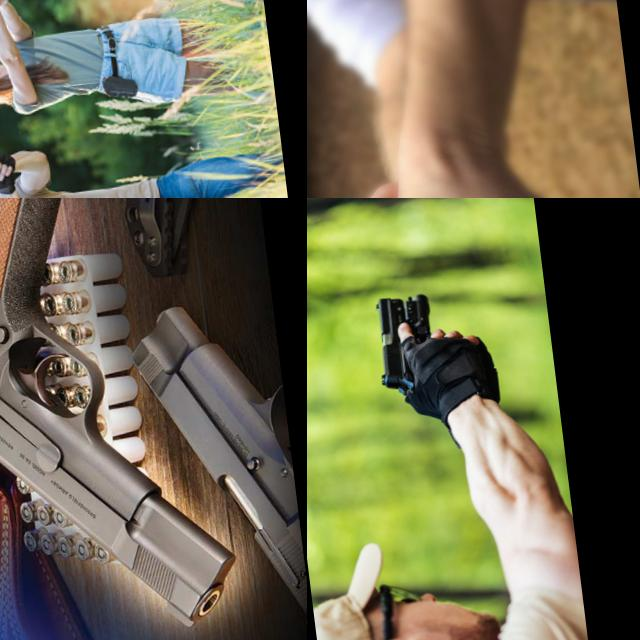handgun: (0, 198, 249, 640), (368, 288, 439, 399), (0, 145, 13, 183), (0, 0, 14, 20)
